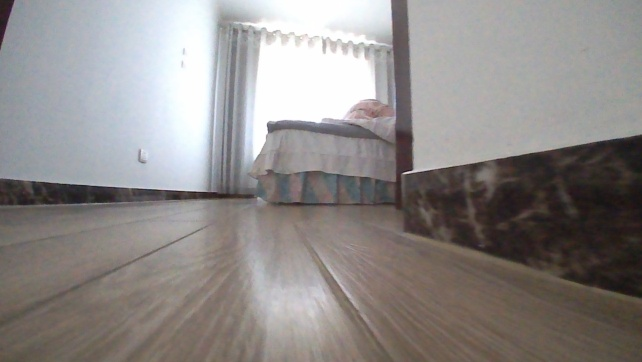bed1: (244, 98, 395, 208)
